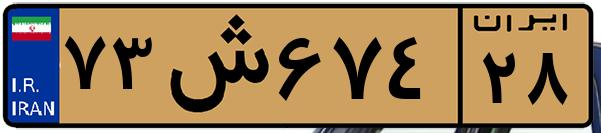2: (475, 38, 525, 113)
3: (110, 28, 158, 98)
4: (385, 28, 445, 110)
6: (270, 28, 330, 110)
7: (330, 28, 385, 110), (57, 26, 110, 100)
8: (525, 38, 570, 115)
ش: (158, 12, 270, 120)
